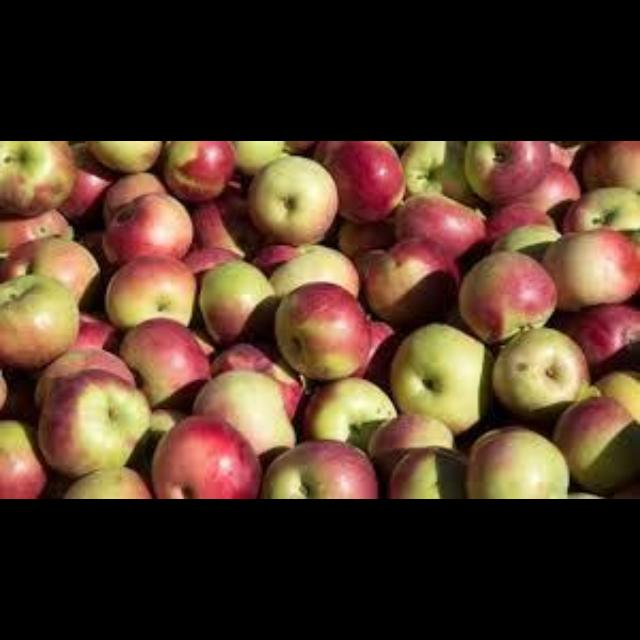apple: (36, 369, 149, 476), (388, 324, 491, 433), (275, 282, 369, 380), (192, 369, 294, 459), (151, 416, 258, 497), (459, 252, 555, 342), (542, 228, 638, 310), (247, 156, 337, 243), (465, 427, 567, 497), (0, 275, 77, 367), (260, 440, 378, 497), (198, 260, 275, 346), (322, 141, 403, 222), (102, 192, 192, 263), (105, 256, 194, 327), (0, 141, 75, 214), (463, 141, 548, 203), (190, 186, 262, 256), (580, 141, 638, 190), (85, 141, 160, 171), (337, 220, 393, 256), (233, 141, 284, 173)
